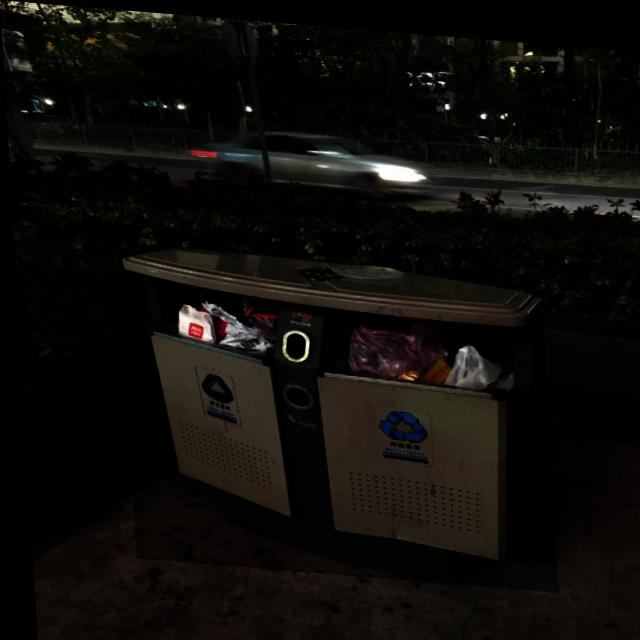overflow: (115, 241, 553, 584)
